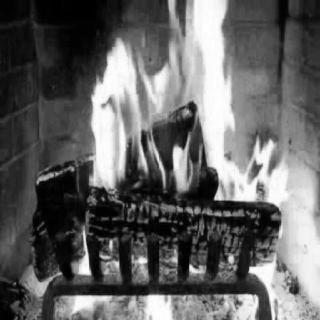Fire: (30, 0, 309, 316)
